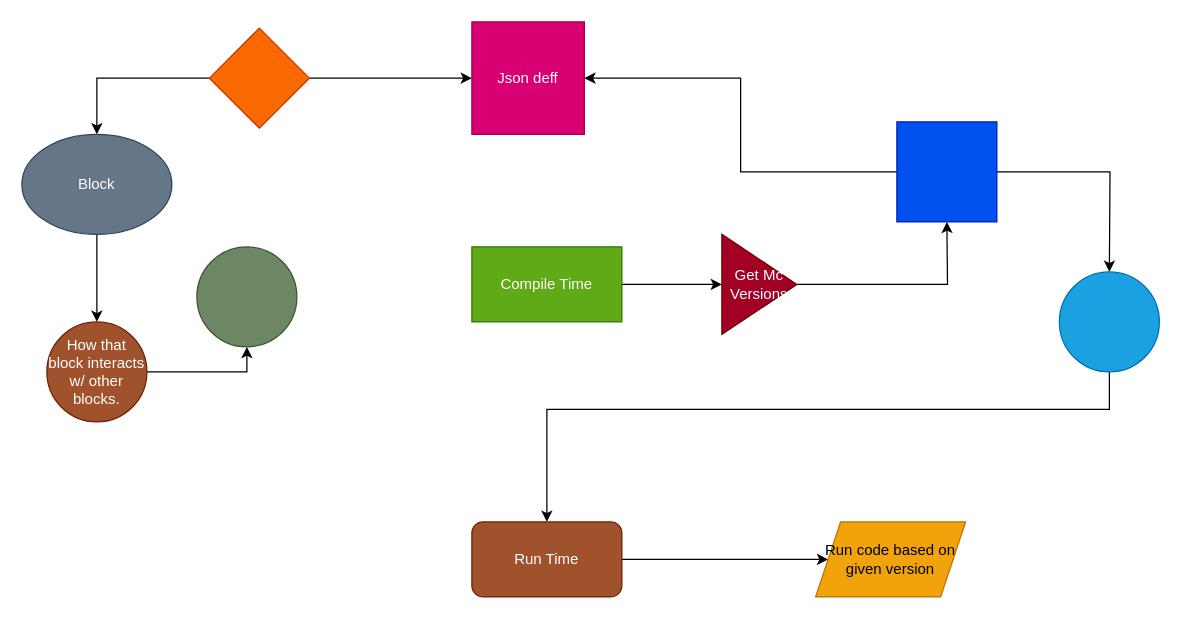
This 1181x619 diagram has some shape labels left out. Here are the shapes that lost their labels. From the top down, the box of each, then its label:
(208, 27, 309, 128): List of "in play" redstone components
(896, 121, 997, 222): Collect JSON Deffinitions for those versions
(196, 246, 297, 347): Example: When powered, set powered to true for x ticks
(1058, 271, 1159, 372): Gen code for that using proc macros
